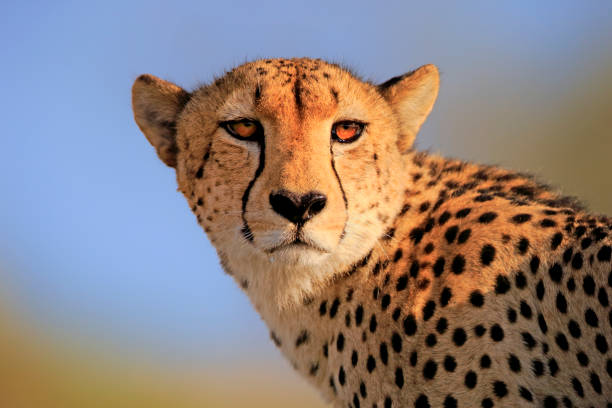cheetah: (116, 44, 445, 305)
